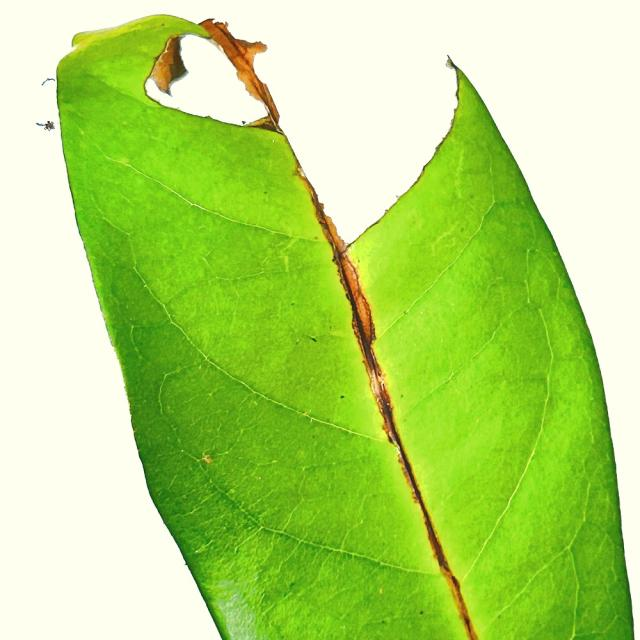Deficiency Leaf: (255, 25, 456, 242), (149, 35, 188, 95)
Lychee: (56, 15, 633, 639)
